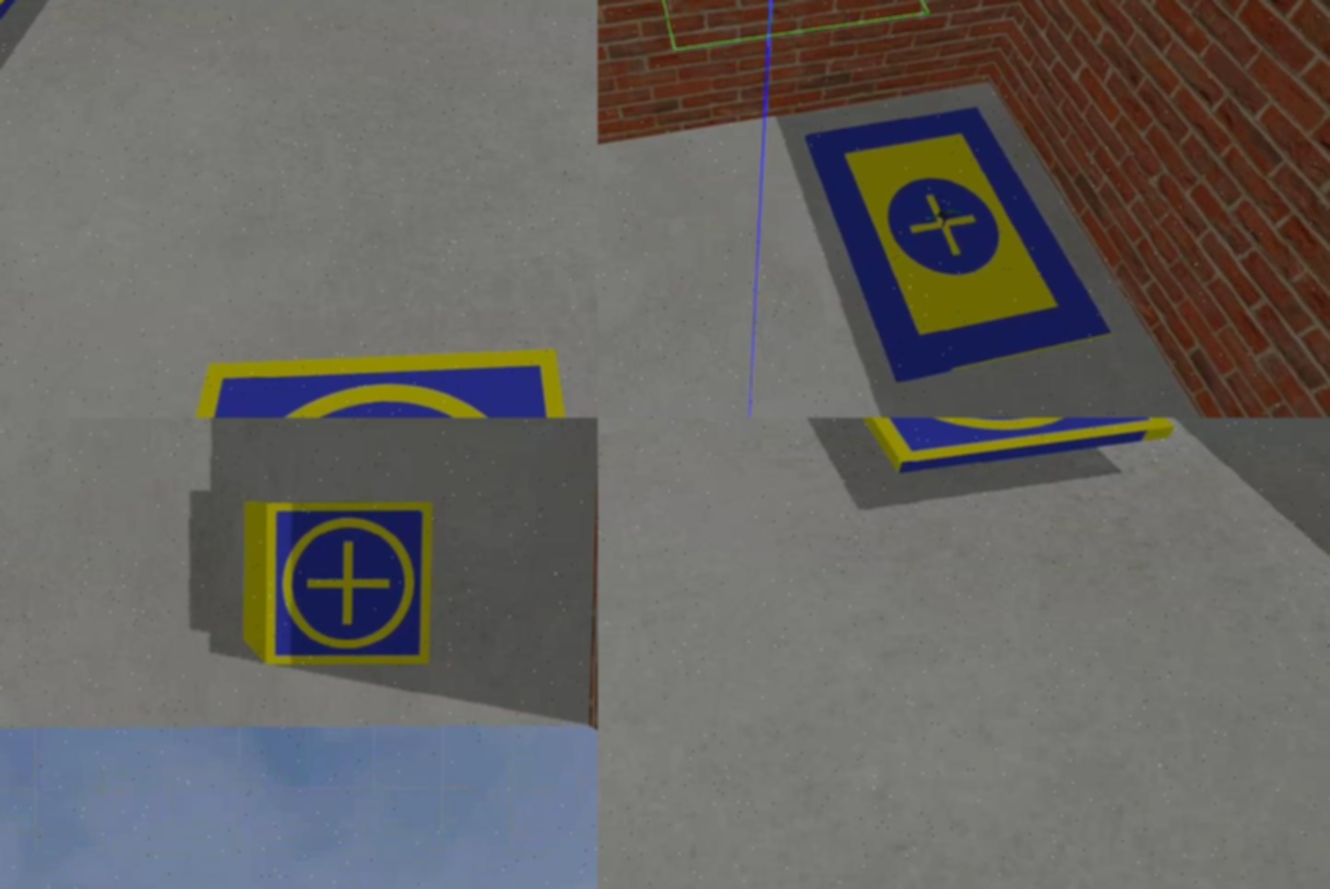large_base: (799, 103, 1117, 391)
small_base: (258, 498, 435, 671), (838, 419, 1176, 480)
